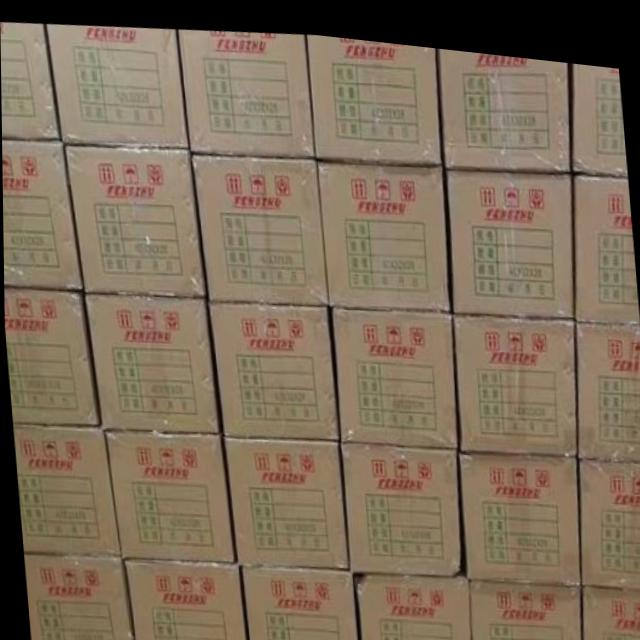box: (64, 145, 204, 290), (314, 152, 448, 300), (192, 152, 327, 296), (446, 156, 574, 304), (207, 294, 338, 433), (85, 292, 217, 427), (453, 303, 577, 442), (178, 26, 314, 152), (332, 301, 457, 437), (46, 22, 186, 143), (307, 27, 439, 154), (103, 429, 231, 558), (225, 434, 349, 561), (439, 38, 570, 158), (341, 435, 459, 567), (457, 442, 579, 569), (12, 427, 119, 554), (3, 287, 97, 422), (2, 140, 82, 288), (124, 557, 245, 640), (22, 552, 132, 640), (574, 161, 639, 307), (240, 559, 356, 640), (574, 305, 640, 445), (355, 565, 470, 640), (465, 567, 580, 640), (579, 442, 640, 573), (0, 22, 58, 136), (572, 50, 627, 161), (580, 573, 640, 640)
